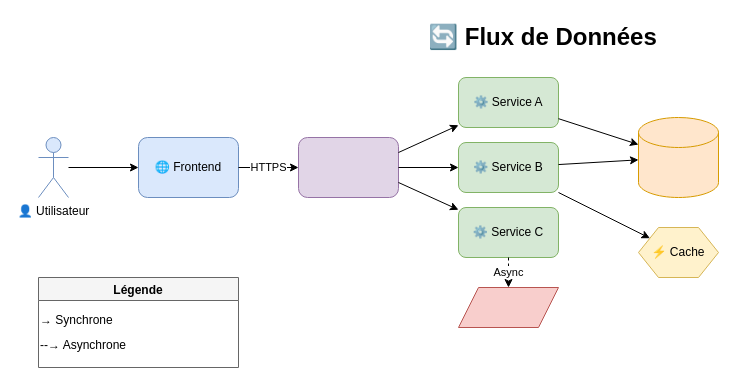
Some shapes in this 744 by 385 pixel diagram are drawn without their labels. The shapes that lost their labels are listed below. From the top down, each one's centre as x and y in pixels, then its label:
the point at 348,167: 🚪 API Gateway
the point at 678,157: 🗄️ Database
the point at 508,307: 📨 Queue
